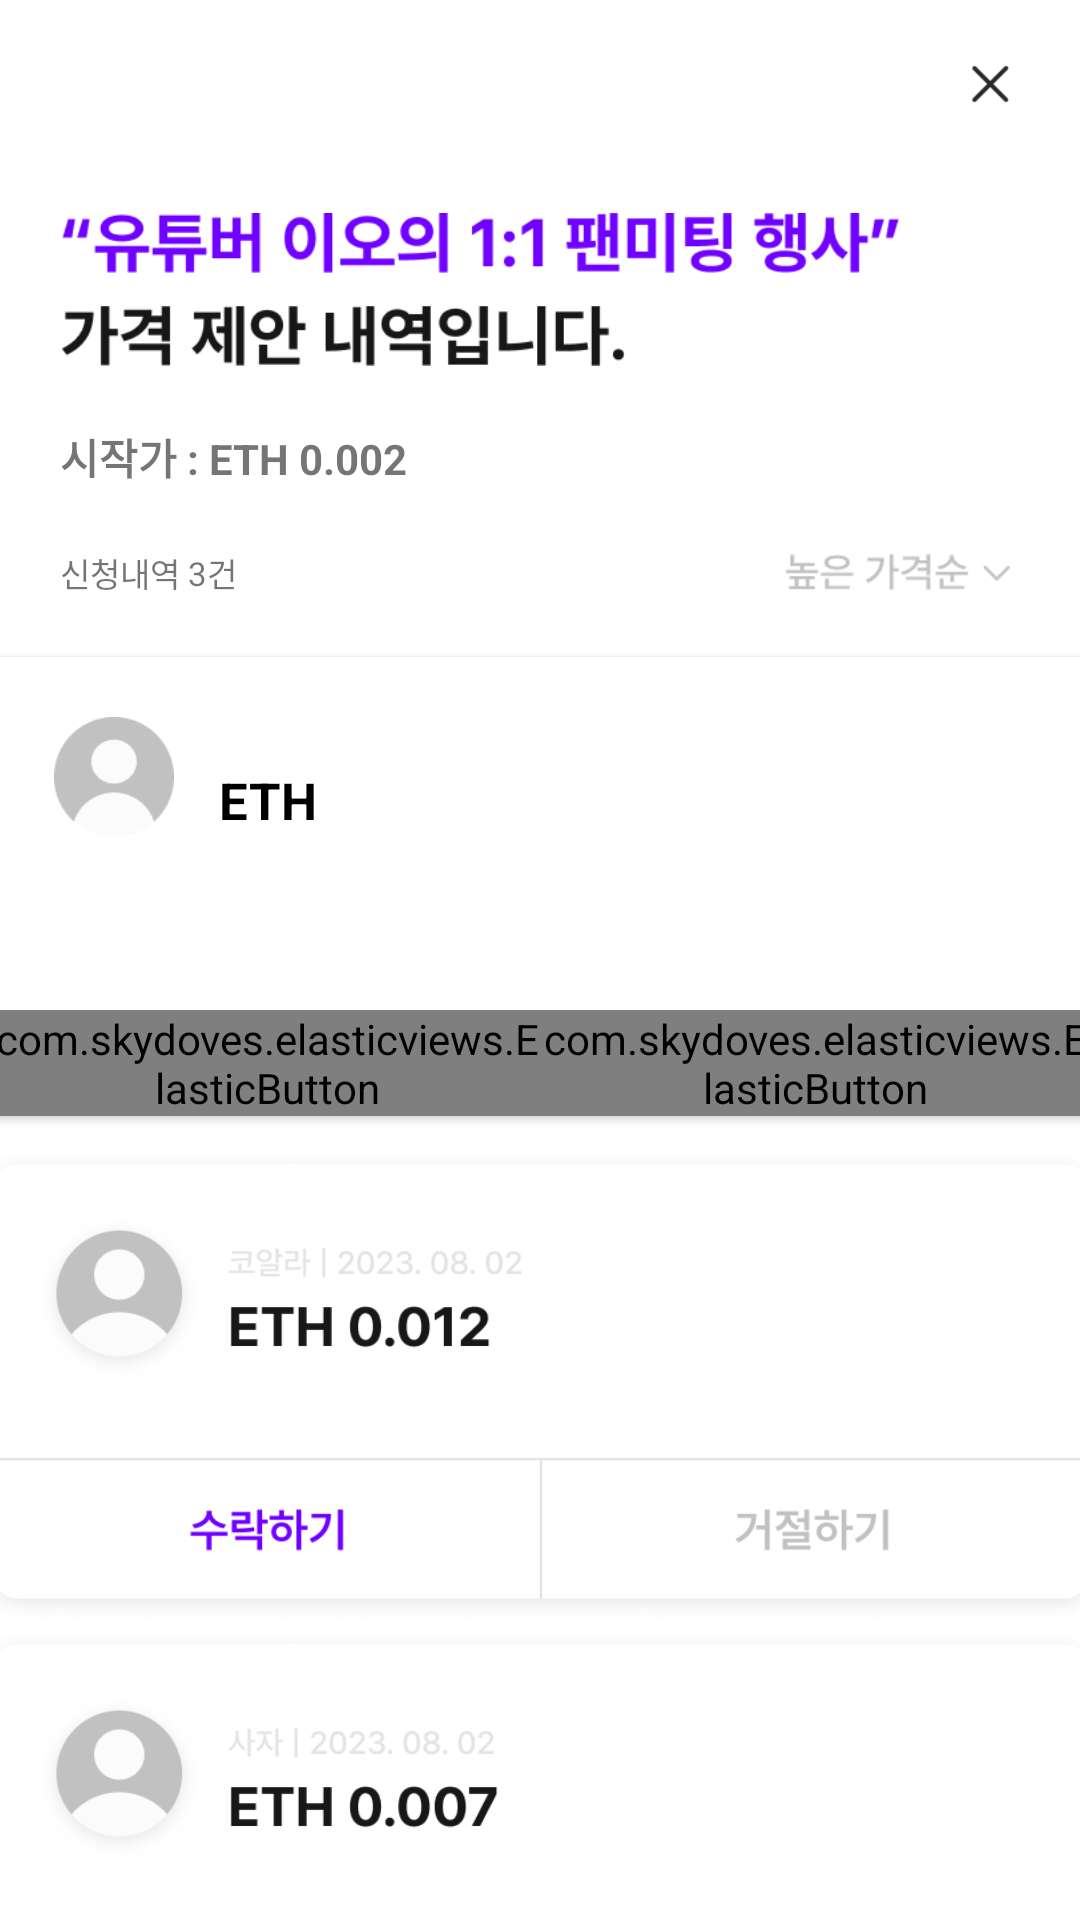

Screen size 1080*1920. Icon name, then its box in pixels as (x1, y1, x2, y2):
close: (972, 66, 1009, 102)
page profile: (54, 717, 174, 821)
